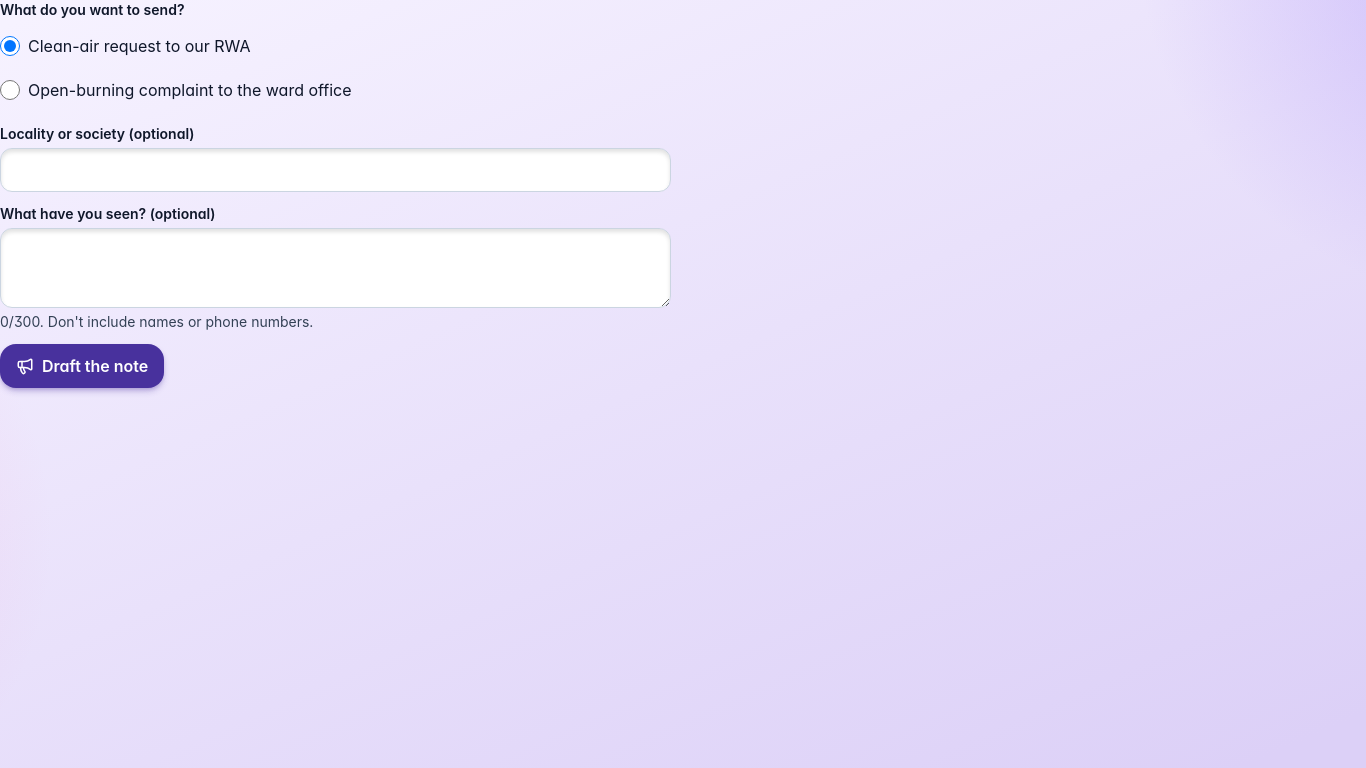
CivicDrafter › drafts a note from the form
This screenshot has width=1366, height=768.
Click the radio button labelled "Open-burning complaint to the ward office". click: (10,90)
box: [0,80,20,100]
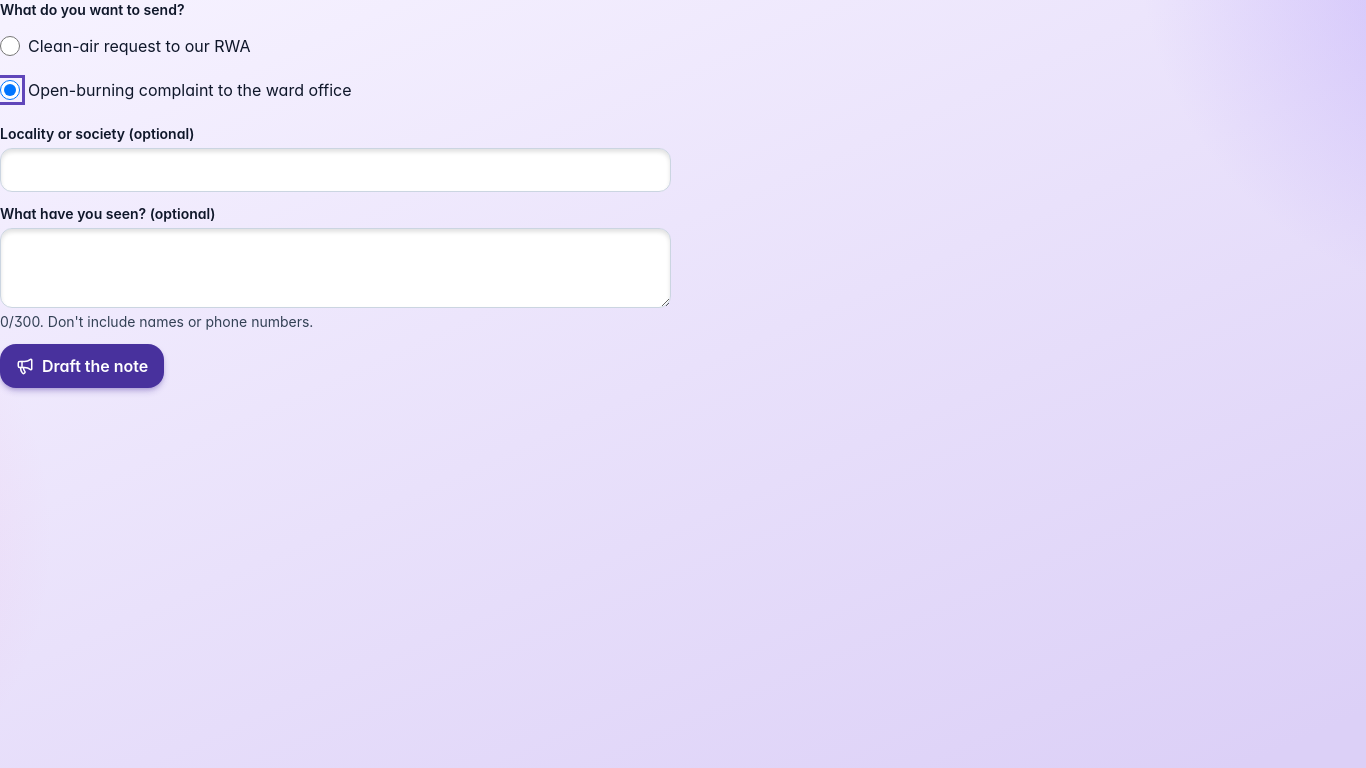
Type "Garbage burning at night" into the text box labelled "What have you seen? (optional)". click: (336,268)
box: [0,228,671,308]
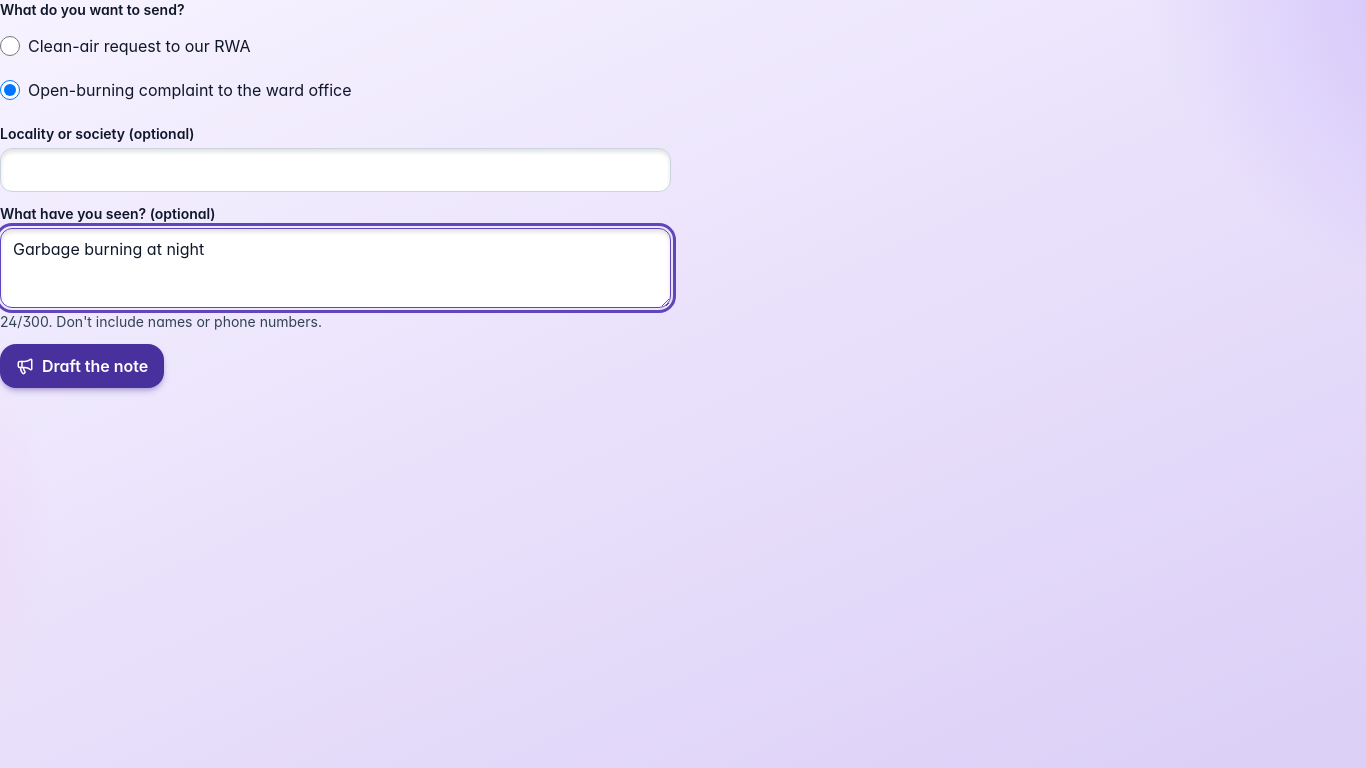
Click the button "Draft the note". click: (82,366)
box: [0,344,164,388]
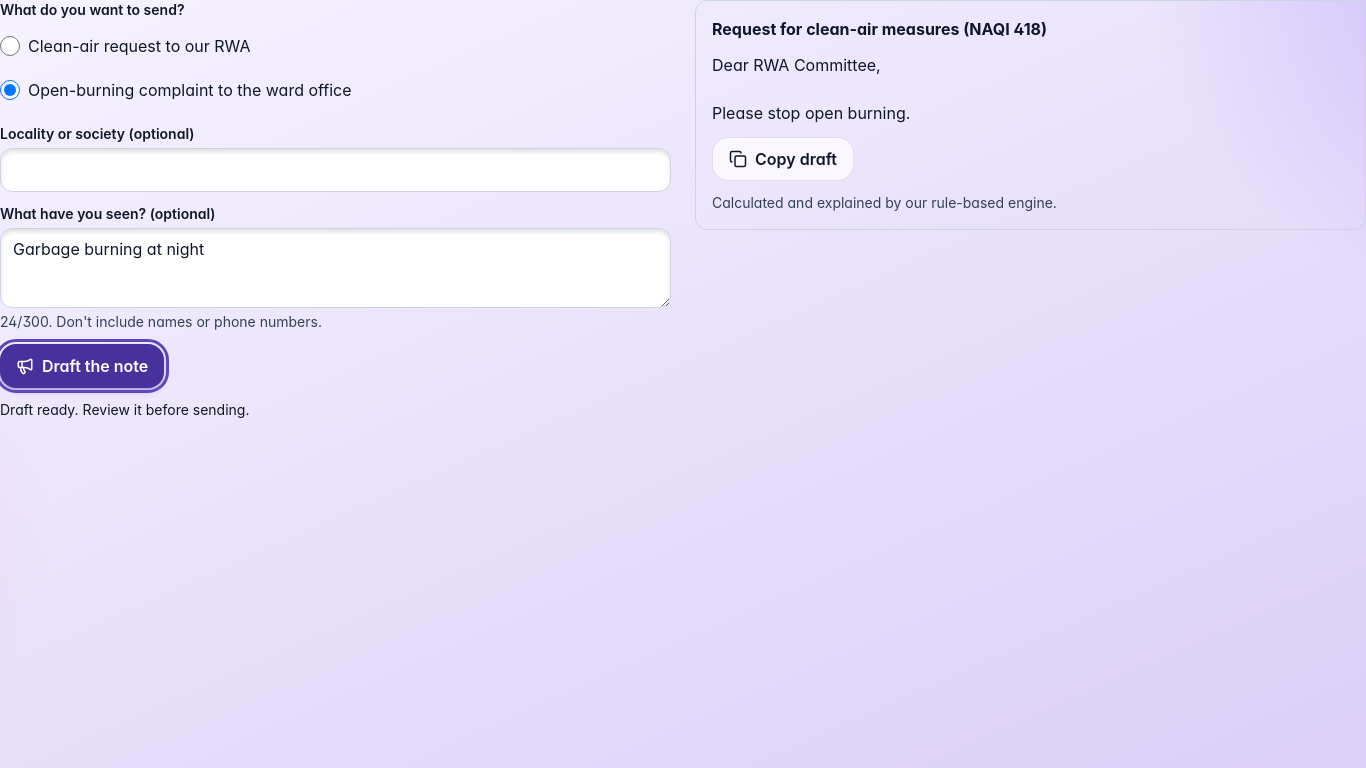
Expected: the text "Dear RWA Committee, Please stop open burning." is shown, [712,55,910,123]
